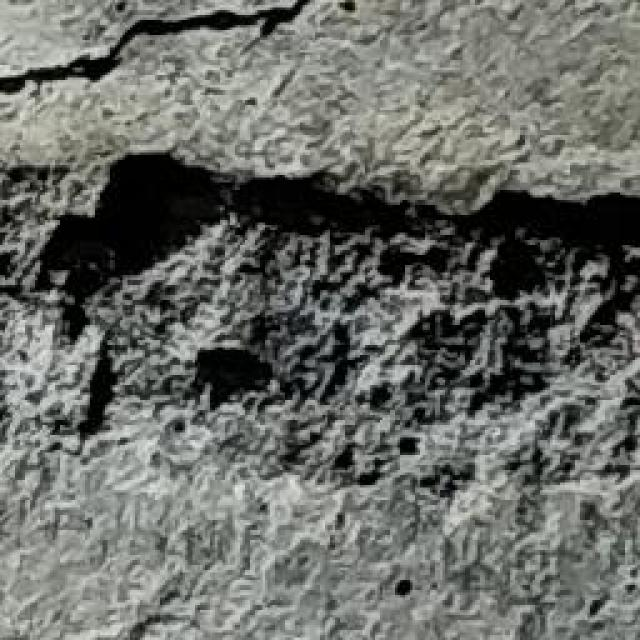Diagonal: (3, 0, 348, 109)
Rippled: (0, 132, 640, 515)
